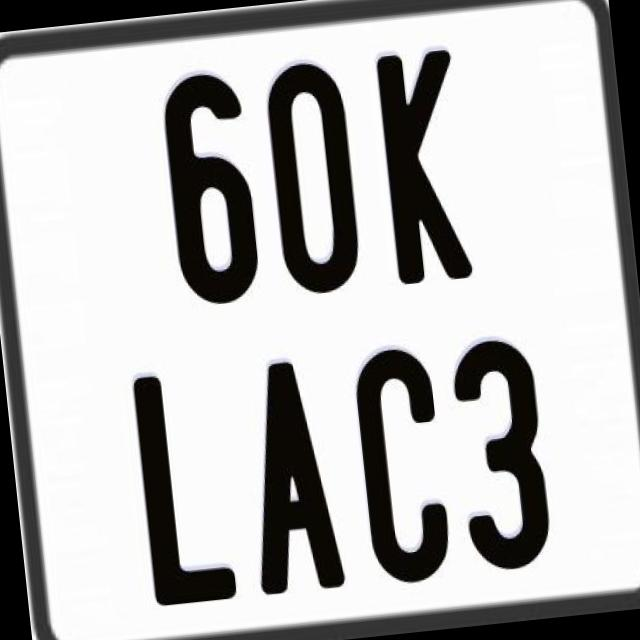0: (258, 58, 365, 300)
3: (447, 335, 555, 576)
6: (158, 67, 268, 309)
A: (235, 354, 342, 590)
C: (352, 343, 461, 588)
K: (371, 46, 473, 285)
L: (132, 367, 244, 612)
